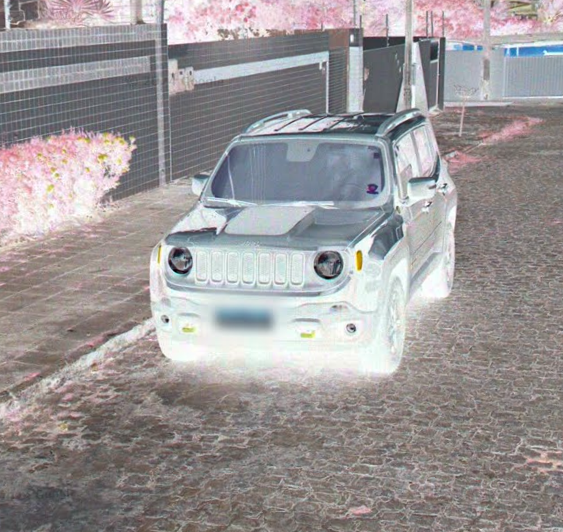car: (147, 87, 458, 376)
